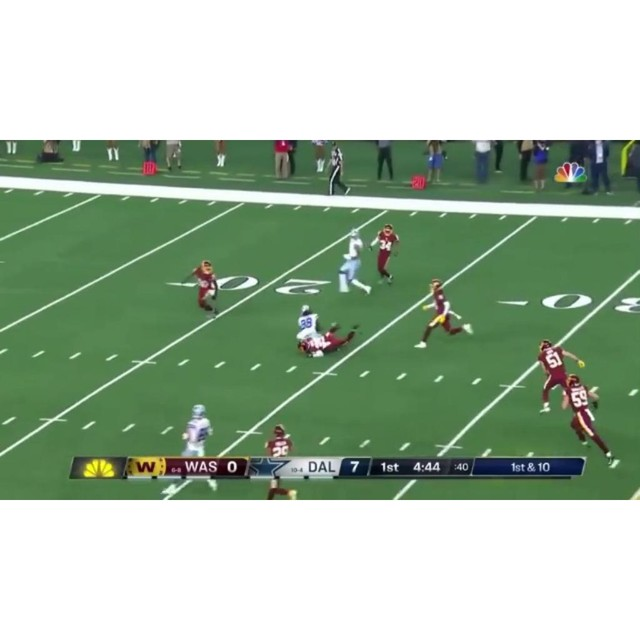american-football-player: (563, 375, 615, 466), (415, 278, 472, 349), (537, 339, 582, 414), (336, 229, 372, 297), (263, 423, 296, 494), (301, 323, 359, 358), (369, 223, 401, 285), (188, 260, 220, 316), (181, 404, 213, 457), (295, 304, 322, 354)
referee: (327, 142, 351, 197)
